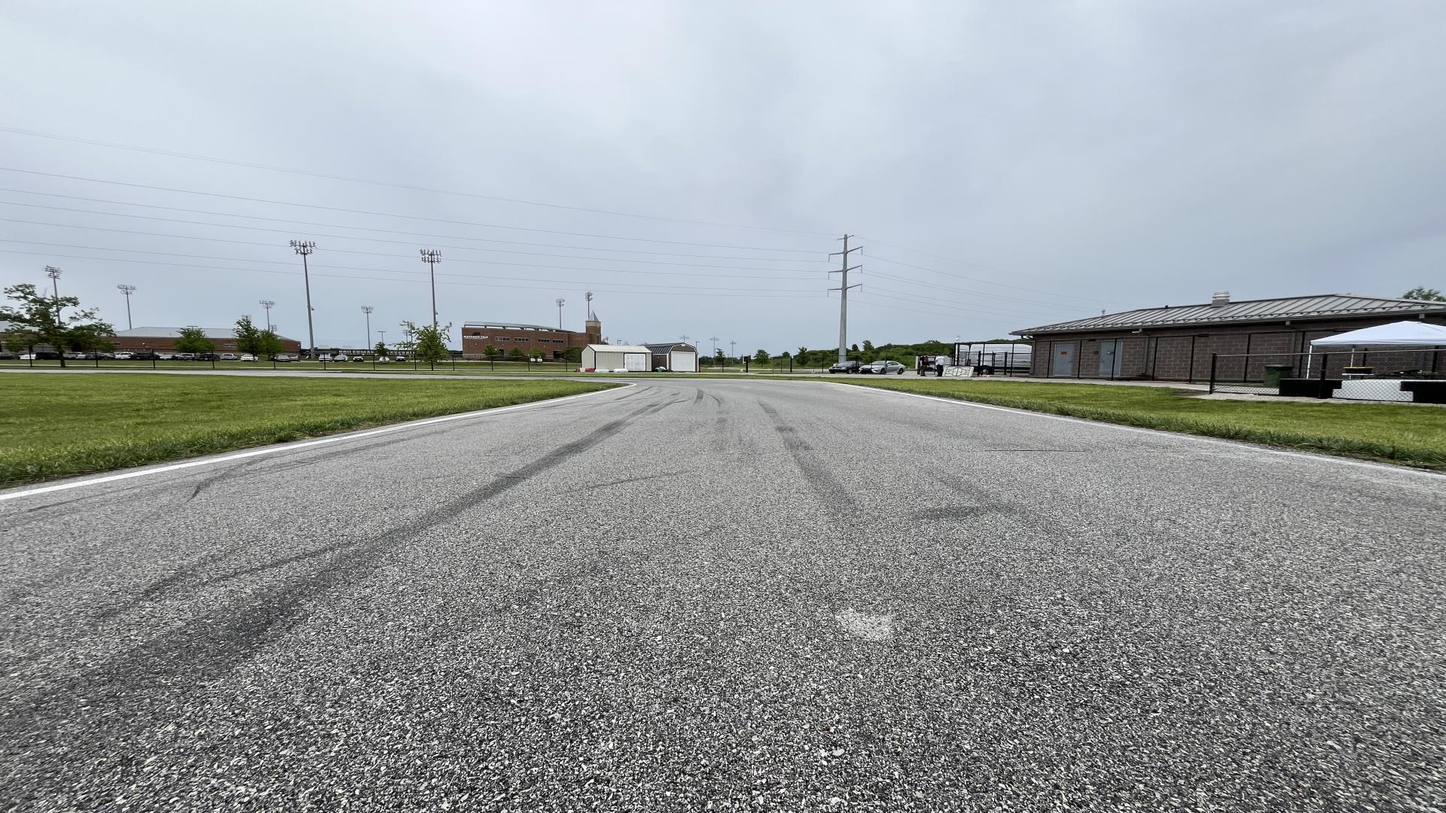white-line: (0, 383, 637, 500), (795, 381, 1445, 479)
